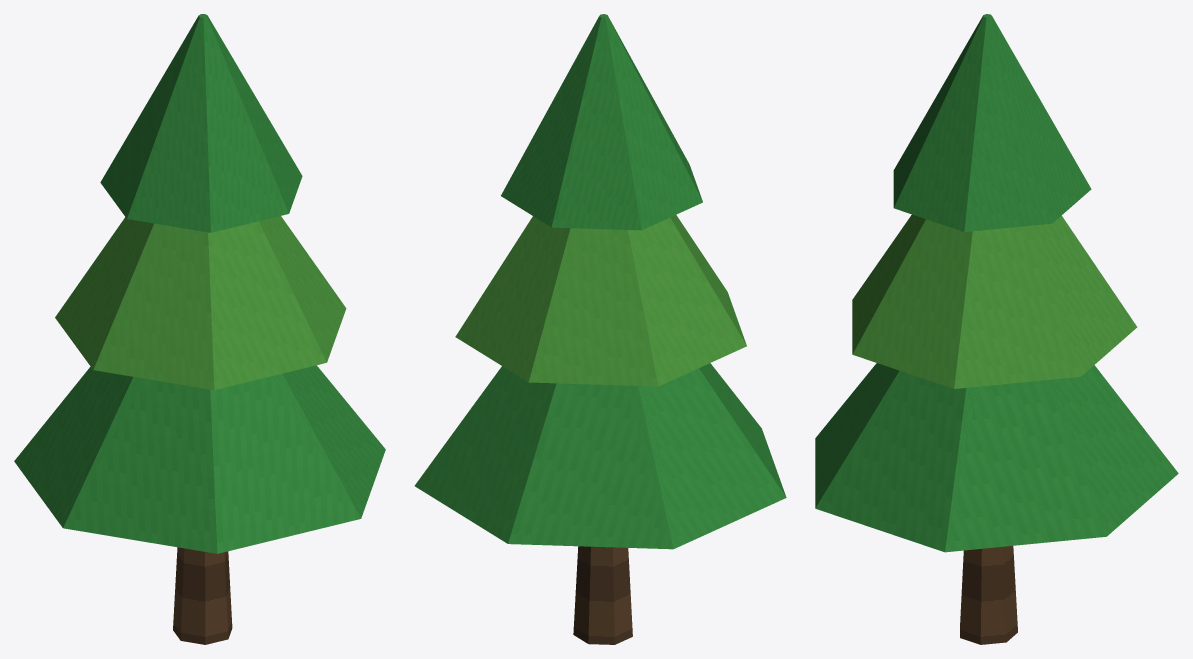
File: tree-pine-lod0.glb
The picture shows the model from 3 angles, left to right: view 1: azimuth 30°, elevation 25°; view 2: azimuth 150°, elevation 25°; view 3: azimuth 270°, elevation 25°; orthographic projection.
Parts seen in each view (by area): view 1: tree-pine-lod0; view 2: tree-pine-lod0; view 3: tree-pine-lod0.
Part boxes in pixels (box(x1,y1,x2,y2)): tree-pine-lod0: box(14, 14, 385, 644); tree-pine-lod0: box(414, 14, 786, 644); tree-pine-lod0: box(815, 14, 1178, 644).
Bounding box in the file's own units: 2.44 × 4.44 × 2.38.
1 material, 1 textured.
